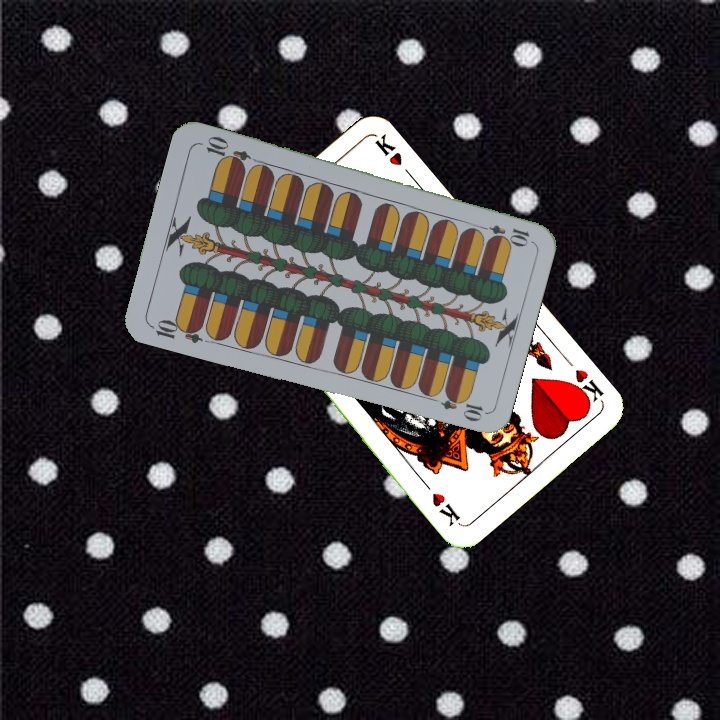E10: (146, 315, 205, 346), (473, 220, 532, 246)
HK: (565, 365, 606, 410)
